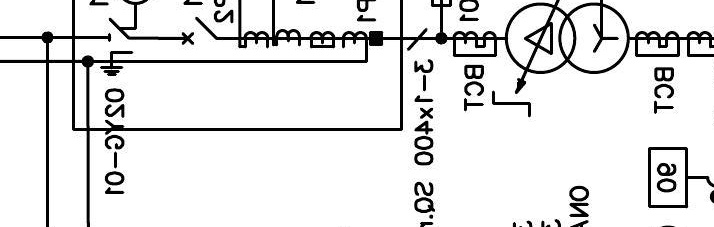11522_tx_dyn1: (504, 2, 631, 75)
115_breaker: (181, 16, 218, 46)
